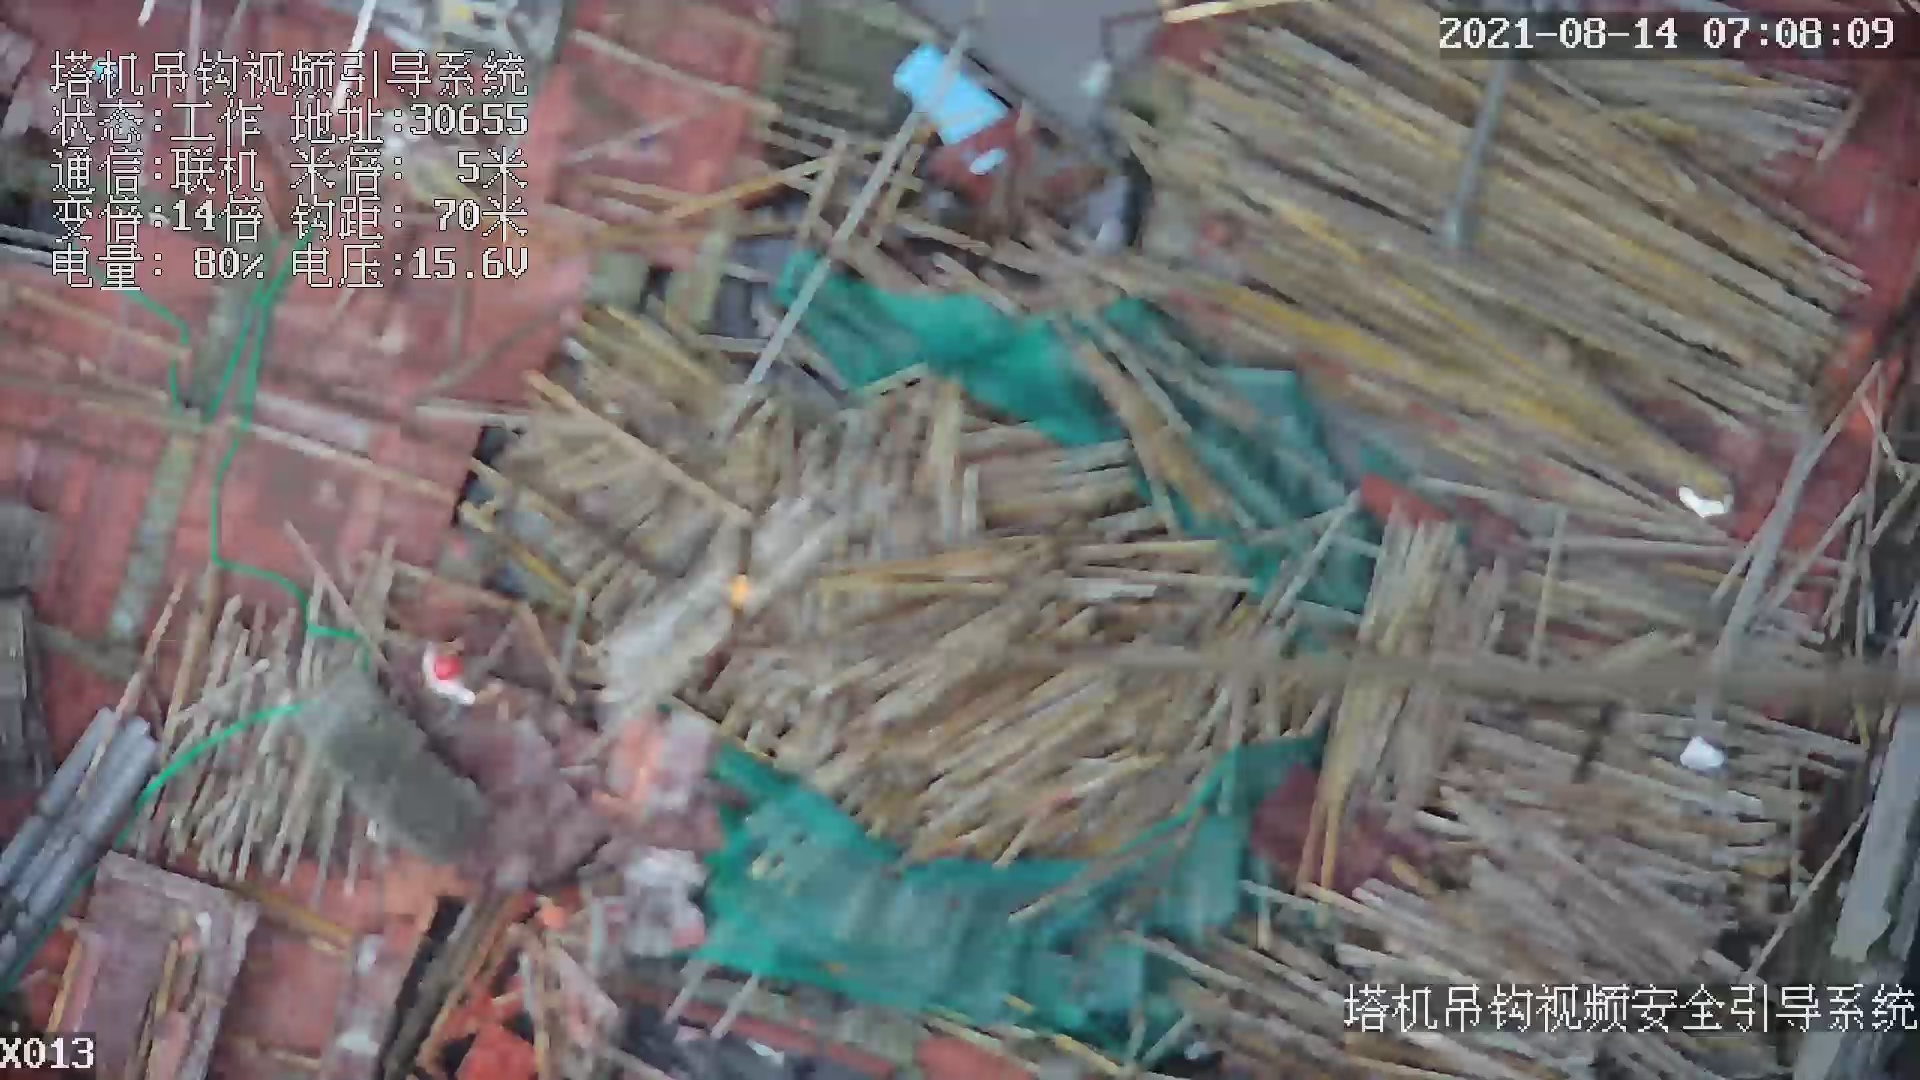helmet: (431, 652, 465, 681)
hook: (727, 533, 756, 647)
person: (420, 641, 483, 710)
